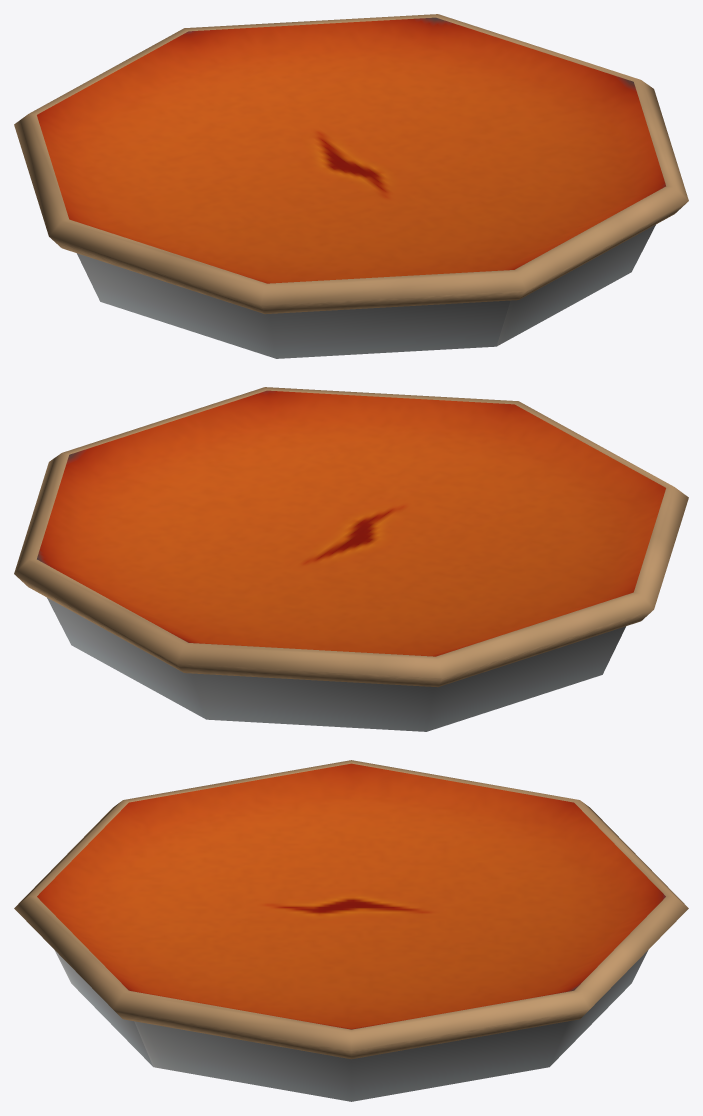
The model's file is Pie_C.FBX.
3 renders of one model, top to bottom at view 1: azimuth 30°, elevation 25°; view 2: azimuth 150°, elevation 25°; view 3: azimuth 270°, elevation 25°, orthographic. The views are drawn at different scales.
Parts seen in each view (by area): view 1: Pie_C; view 2: Pie_C; view 3: Pie_C.
Part boxes in pixels (x1=…): Pie_C: x1=14, y1=14, x2=688, y2=358; Pie_C: x1=14, y1=387, x2=688, y2=731; Pie_C: x1=14, y1=760, x2=688, y2=1101.
Size of the model in its own units: 116 by 16.52 by 116.
